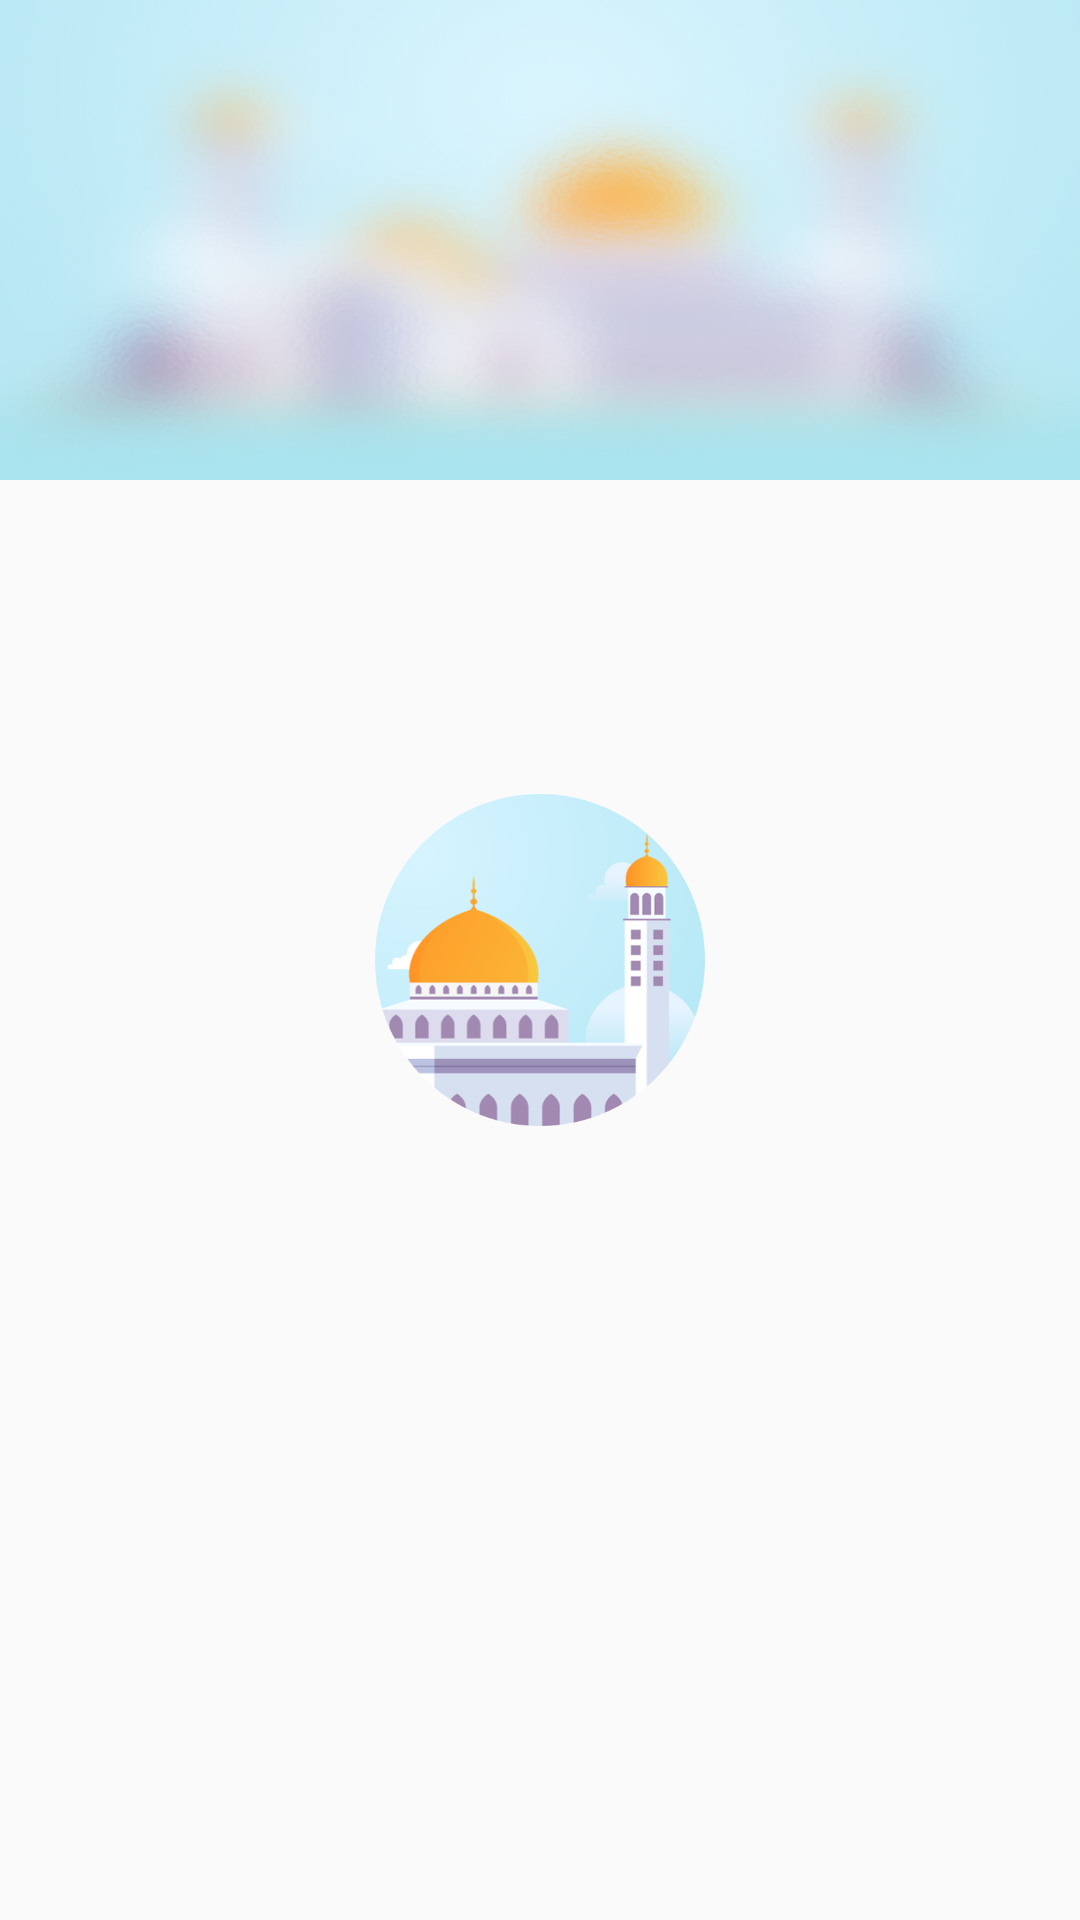

Point at icon controls on the screen. Image size 1080*1920, points as [x,y].
mosque: [540,960]
